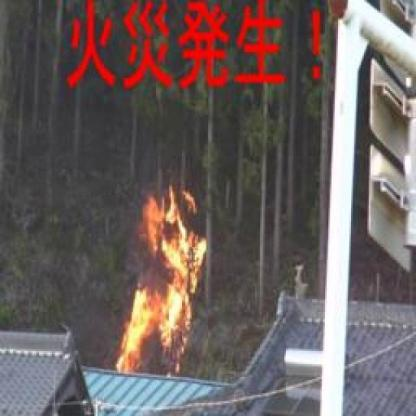fire: (106, 171, 212, 377)
